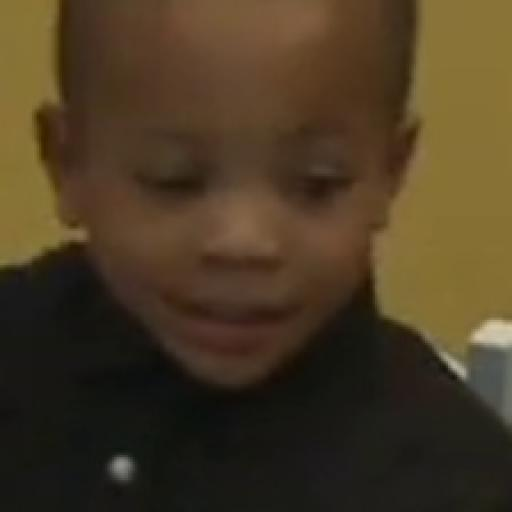Autism: (47, 3, 391, 415)
